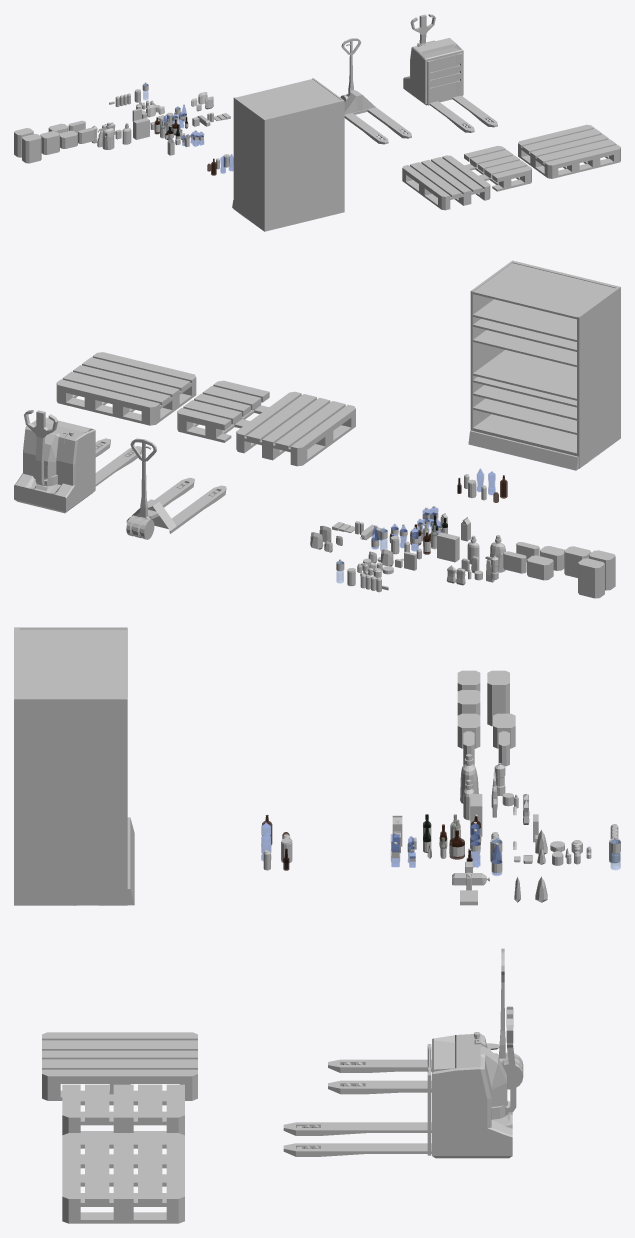
Rendered from transpalettes.obj.
3 views of the same model, one above another, from view 1: azimuth 30°, elevation 25°; view 2: azimuth 150°, elevation 25°; view 3: azimuth 270°, elevation 25° (orthographic). The views are drawn at different scales.
Parts seen in each view (by area): view 1: Mur, PaletteAmericaine, MurDroite, Palette, EtageSoutenu.002, DemiPalette, BlocPrincipal, Gerbeur, Pales, PQ24, PaleG, PaleD (+4 smaller); view 2: PaletteAmericaine, MurDroite, Palette, BlocPrincipal, EtageSoutenu.002, Base, DemiPalette, EtageSoutenu.003, EtageSoutenu.001, MurGauche, Pales, EtageSoutenu (+13 smaller); view 3: MurGauche, PaletteAmericaine, BlocPrincipal, Palette, EtageSoutenu.002, DemiPalette, Pales, PaleG, PaleD, Sopalin12, Timon.001.
Boxes of the visible parts, x1=… form: Mur: x1=265, y1=100, x2=342, y2=231; PaletteAmericaine: x1=518, y1=124, x2=620, y2=178; MurDroite: x1=233, y1=97, x2=265, y2=231; Palette: x1=402, y1=155, x2=490, y2=210; EtageSoutenu.002: x1=236, y1=79, x2=340, y2=118; DemiPalette: x1=464, y1=146, x2=531, y2=191; BlocPrincipal: x1=403, y1=38, x2=463, y2=105; Gerbeur: x1=427, y1=53, x2=462, y2=105; Pales: x1=344, y1=90, x2=411, y2=144; PQ24: x1=22, y1=134, x2=41, y2=163; PaleG: x1=452, y1=95, x2=497, y2=127; PaleD: x1=429, y1=101, x2=474, y2=132; PaletteAmericaine: x1=56, y1=352, x2=196, y2=425; MurDroite: x1=577, y1=286, x2=620, y2=468; Palette: x1=236, y1=391, x2=355, y2=466; BlocPrincipal: x1=14, y1=417, x2=95, y2=513; EtageSoutenu.002: x1=473, y1=263, x2=615, y2=319; Base: x1=468, y1=414, x2=578, y2=470; DemiPalette: x1=177, y1=380, x2=269, y2=442; EtageSoutenu.003: x1=473, y1=350, x2=576, y2=400; EtageSoutenu.001: x1=473, y1=299, x2=576, y2=341; MurGauche: x1=470, y1=260, x2=513, y2=430; Pales: x1=126, y1=477, x2=226, y2=533; EtageSoutenu: x1=473, y1=330, x2=576, y2=366; MurGauche: x1=14, y1=698, x2=127, y2=905; PaletteAmericaine: x1=62, y1=1133, x2=184, y2=1223; BlocPrincipal: x1=432, y1=1033, x2=512, y2=1158; Palette: x1=42, y1=1032, x2=197, y2=1100; EtageSoutenu.002: x1=19, y1=629, x2=127, y2=697; DemiPalette: x1=62, y1=1084, x2=184, y2=1136; Pales: x1=328, y1=1043, x2=499, y2=1094; PaleG: x1=283, y1=1143, x2=431, y2=1156; PaleD: x1=283, y1=1122, x2=431, y2=1135; Sopalin12: x1=487, y1=670, x2=509, y2=726; Timon.001: x1=505, y1=1006, x2=516, y2=1115.
Size of the model in its own units: 9.16 by 2.54 by 5.34.
